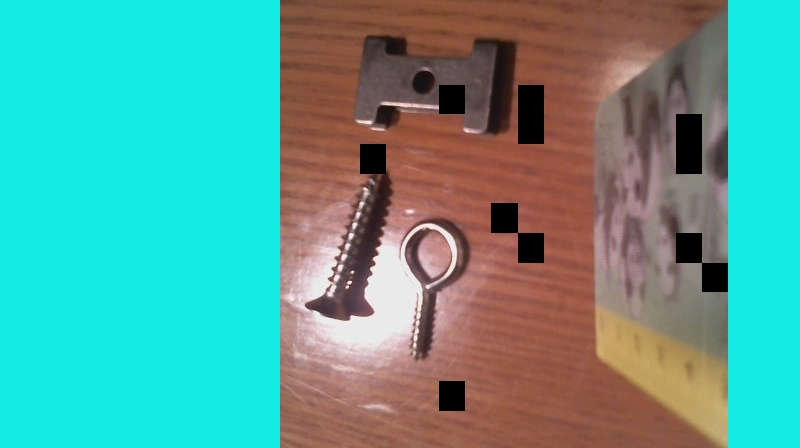O001: (397, 215, 469, 368)
O002: (351, 29, 512, 142)
S001: (301, 165, 390, 331)
